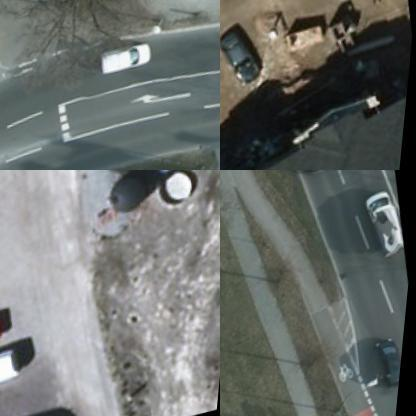car: (220, 25, 274, 99), (98, 36, 160, 78), (378, 335, 408, 395), (0, 351, 31, 406), (296, 170, 338, 181)
